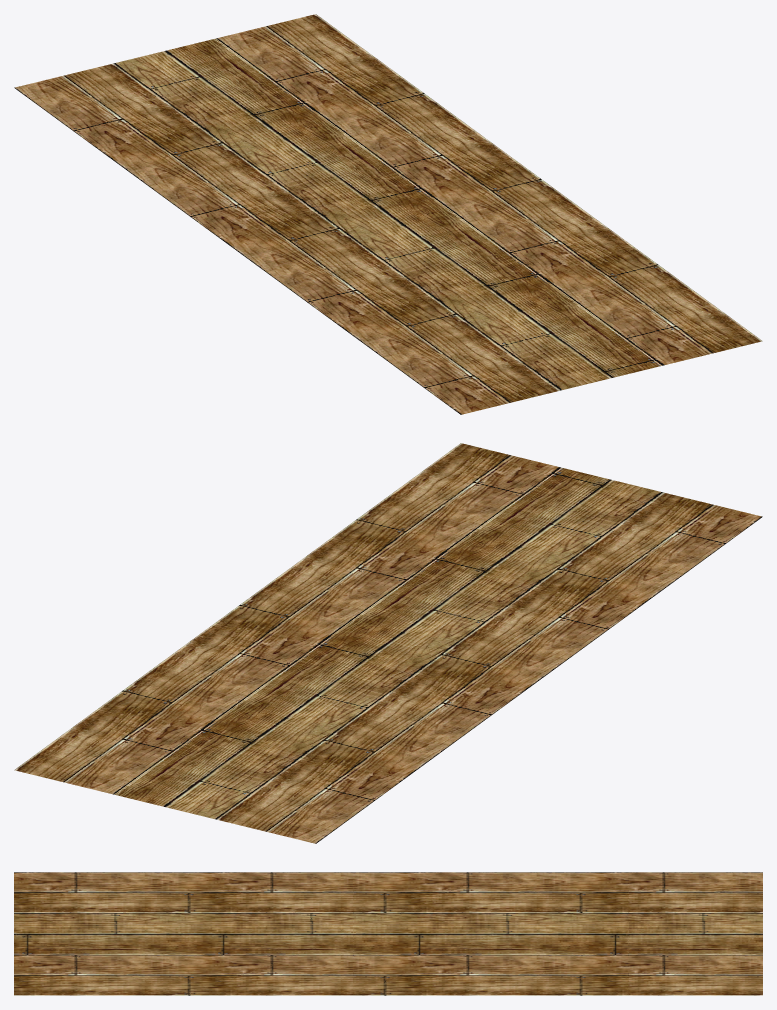
Rendered from LAKETOWN_WAREHOUSE2_PS_WH2_SMALLFLOOR_7737.fbx.
3 views of the same model, one above another, from view 1: azimuth 30°, elevation 25°; view 2: azimuth 150°, elevation 25°; view 3: azimuth 270°, elevation 25° (orthographic). The views are drawn at different scales.
Parts seen in each view (by area): view 1: LAKETOWN_WAREHOUSE2_PS_WH2_SMALLFLOOR_7737; view 2: LAKETOWN_WAREHOUSE2_PS_WH2_SMALLFLOOR_7737; view 3: LAKETOWN_WAREHOUSE2_PS_WH2_SMALLFLOOR_7737.
Part boxes in pixels (left/top/right/bottom): LAKETOWN_WAREHOUSE2_PS_WH2_SMALLFLOOR_7737: left=14, top=14, right=762, bottom=414; LAKETOWN_WAREHOUSE2_PS_WH2_SMALLFLOOR_7737: left=14, top=443, right=762, bottom=843; LAKETOWN_WAREHOUSE2_PS_WH2_SMALLFLOOR_7737: left=14, top=872, right=762, bottom=995.
Size of the model in its own units: 23858 by 0.0225 by 61156.
1 material, 1 textured.
